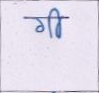i_matra: (51, 7, 63, 37)
